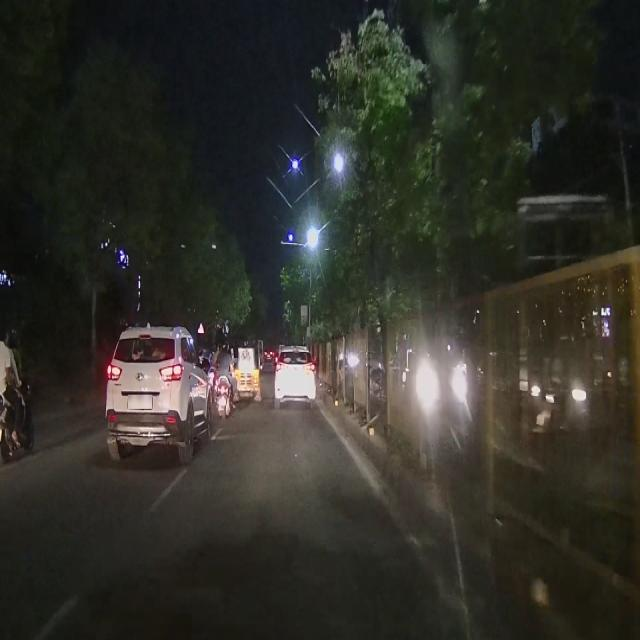car ahead at: (104, 324, 211, 466)
